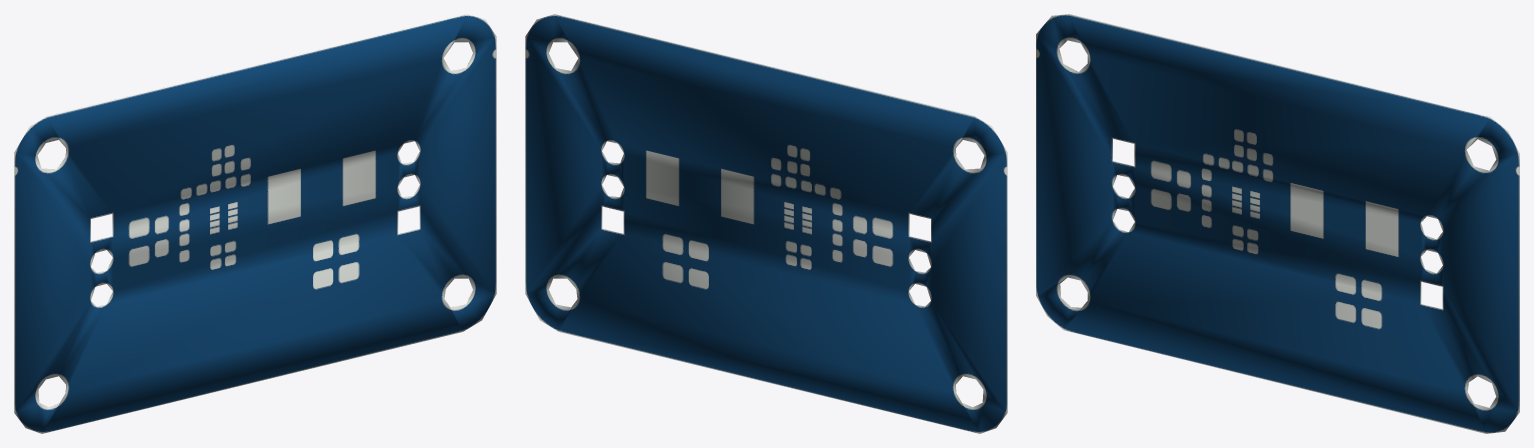
Rendered from link3_bic30_rev02_gerber_bottom.obj.
3 renders of one model, left to right at view 1: azimuth 30°, elevation 25°; view 2: azimuth 150°, elevation 25°; view 3: azimuth 330°, elevation 25°, orthographic.
Size of the model in its own units: 0.0374 by 0.0235 by 1e-05.
1 material, 1 textured.
